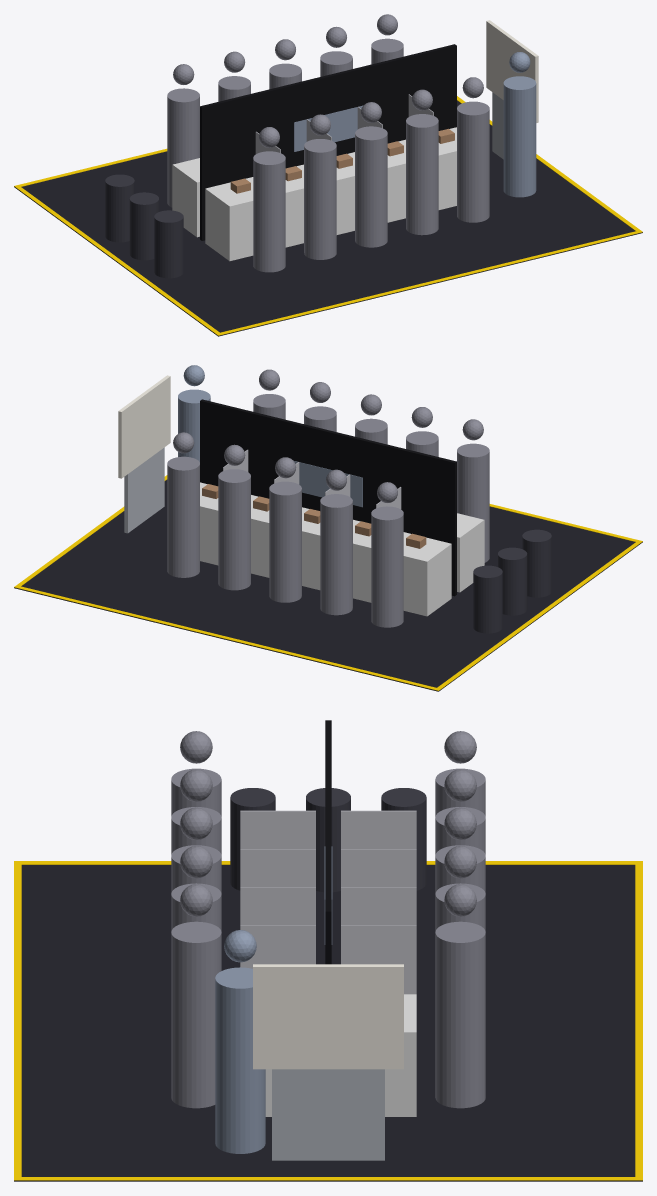
The model's file is G05_SILENT_PAIR.obj.
3 views of the same model, one above another, from view 1: azimuth 30°, elevation 25°; view 2: azimuth 150°, elevation 25°; view 3: azimuth 270°, elevation 25° (orthographic). The views are drawn at different scales.
Visible parts, largest first — view 1: floor_area, partition_frame, booth_table_-1_-0.9, operator_body, player_-1_0_body, player_-1_2_body, player_-1_4_body, player_-1_1_body, player_-1_3_body, booth_table_-1_0.9, player_1_0_body, reputation_board (+14 smaller); view 2: floor_area, partition_frame, booth_table_1_-0.9, player_1_0_body, player_1_3_body, player_1_2_body, player_1_4_body, player_1_1_body, reputation_board, booth_table_1_0.9, player_-1_0_body, reputation_board_easel (+14 smaller); view 3: floor_area, reputation_board, reputation_board_easel, player_1_4_body, player_-1_4_body, operator_body, booth_divider_1_3, booth_divider_-1_0, booth_divider_-1_1, booth_divider_-1_2, booth_divider_1_0, booth_divider_1_1 (+30 smaller).
Part boxes in pixels (x1=…): floor_area: x1=14, y1=100, x2=642, y2=336; partition_frame: x1=200, y1=44, x2=456, y2=240; booth_table_-1_-0.9: x1=205, y1=164, x2=354, y2=261; operator_body: x1=503, y1=76, x2=536, y2=197; player_-1_0_body: x1=253, y1=151, x2=285, y2=272; player_-1_2_body: x1=355, y1=126, x2=387, y2=247; player_-1_4_body: x1=457, y1=101, x2=489, y2=222; player_-1_1_body: x1=304, y1=139, x2=336, y2=259; player_-1_3_body: x1=406, y1=114, x2=438, y2=235; booth_table_-1_0.9: x1=346, y1=127, x2=456, y2=222; player_1_0_body: x1=167, y1=88, x2=199, y2=207; reputation_board: x1=486, y1=20, x2=538, y2=122; floor_area: x1=14, y1=480, x2=642, y2=691; partition_frame: x1=200, y1=399, x2=456, y2=596; booth_table_1_-0.9: x1=302, y1=519, x2=451, y2=616; player_1_0_body: x1=371, y1=506, x2=403, y2=627; player_1_3_body: x1=218, y1=469, x2=250, y2=590; player_1_2_body: x1=269, y1=481, x2=301, y2=602; player_1_4_body: x1=167, y1=456, x2=199, y2=577; player_1_1_body: x1=320, y1=494, x2=352, y2=615; reputation_board: x1=118, y1=375, x2=170, y2=478; booth_table_1_0.9: x1=200, y1=482, x2=310, y2=577; player_-1_0_body: x1=457, y1=443, x2=489, y2=562; reputation_board_easel: x1=124, y1=447, x2=164, y2=533; floor_area: x1=14, y1=865, x2=642, y2=1181; reputation_board: x1=253, y1=964, x2=403, y2=1069; reputation_board_easel: x1=272, y1=1069, x2=384, y2=1160; player_1_4_body: x1=435, y1=921, x2=485, y2=1108; player_-1_4_body: x1=171, y1=921, x2=221, y2=1108; operator_body: x1=215, y1=967, x2=265, y2=1153; booth_divider_1_3: x1=341, y1=925, x2=416, y2=994; booth_divider_-1_0: x1=240, y1=810, x2=315, y2=848; booth_divider_-1_1: x1=240, y1=849, x2=315, y2=887; booth_divider_-1_2: x1=240, y1=887, x2=315, y2=925; booth_divider_1_0: x1=341, y1=810, x2=416, y2=848; booth_divider_1_1: x1=341, y1=849, x2=416, y2=887.
Size of the model in its own units: 6 by 1.87 by 5.
